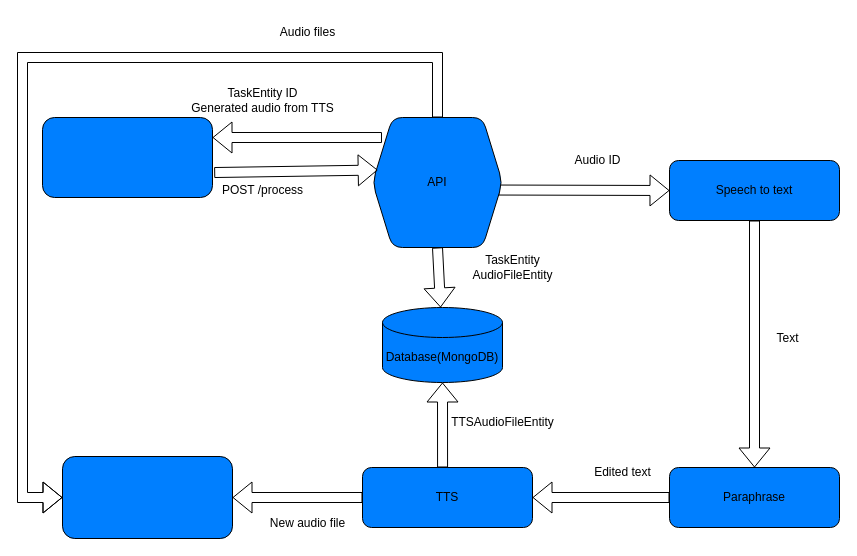
Image size: 857x556. Some labels were removed from this diagram. The shapes that lost their labels are listed below. From the top down, each one's centre as x and y in pixels, then its label:
At (x=127, y=157): "Client".
At (x=147, y=497): "Storage(GridFS)".
